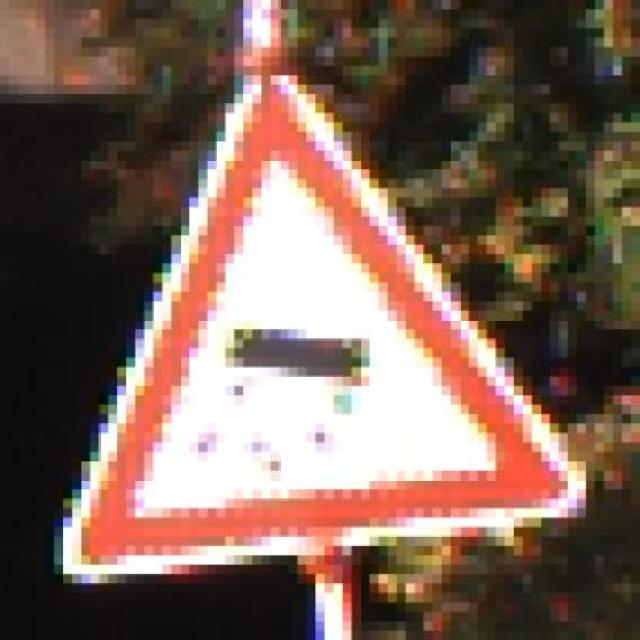Slippery Road Ahead: (44, 75, 596, 583)
